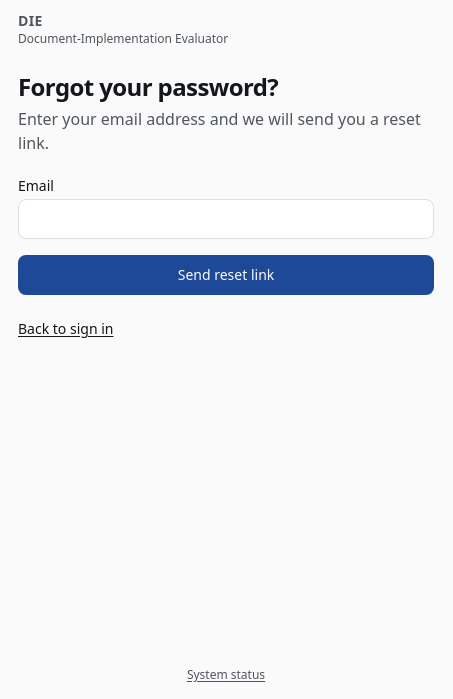
Forgot password › shows the same neutral confirmation for any address
Type "unknown@example.edu" into the field labelled "Email". click: (226, 219)
box: [18,199,434,239]
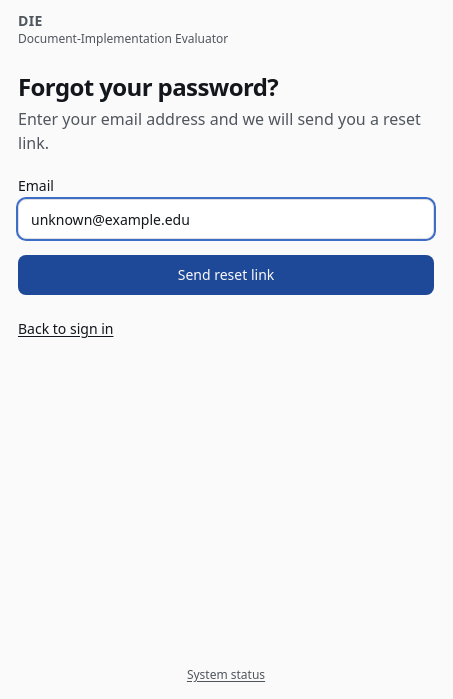
Click the button "Send reset link". click: (226, 275)
box: [18,255,434,295]
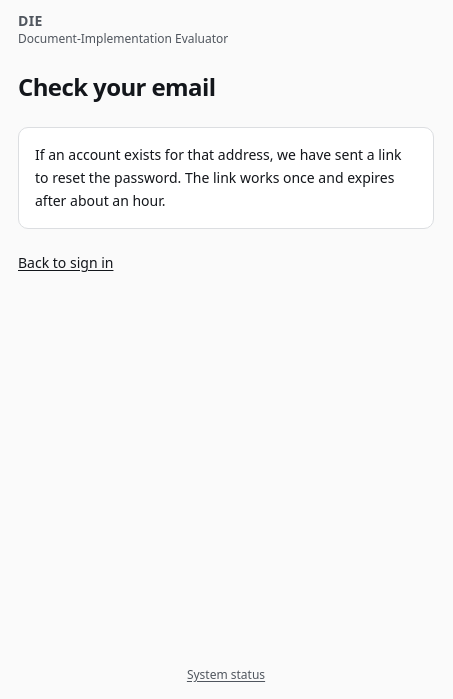
Expected: the heading "Check your email" is shown, [18,70,215,103]
Expected: the text "If an account exists for that address" is shown, [35,145,402,210]
